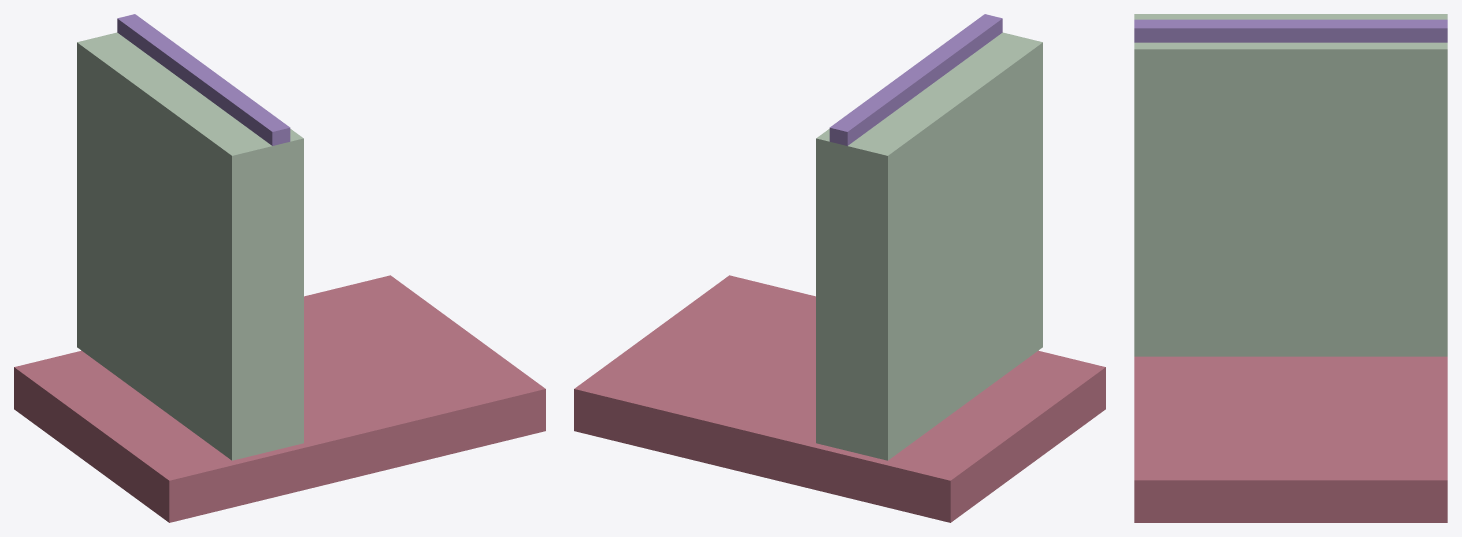
The model's file is 199503_pred.glb.
3 renders of one model, left to right at view 1: azimuth 30°, elevation 25°; view 2: azimuth 150°, elevation 25°; view 3: azimuth 270°, elevation 25°, orthographic.
Visible parts, largest first — view 1: world; view 2: world; view 3: world.
Boxes of the visible parts, box(x1,y1,x2,y2) form: world: box(14, 14, 545, 522); world: box(574, 14, 1105, 522); world: box(1134, 14, 1447, 522).
Size of the model in its own units: 8.4 by 7.8 by 6.
